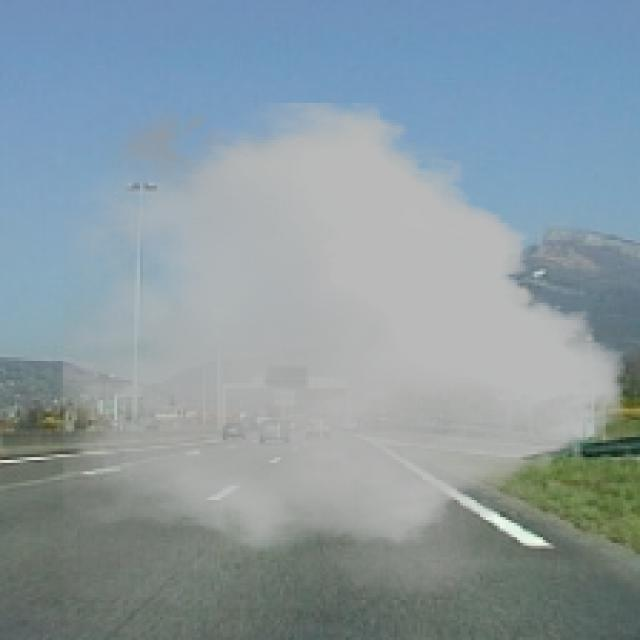smoke: (63, 94, 626, 609)
